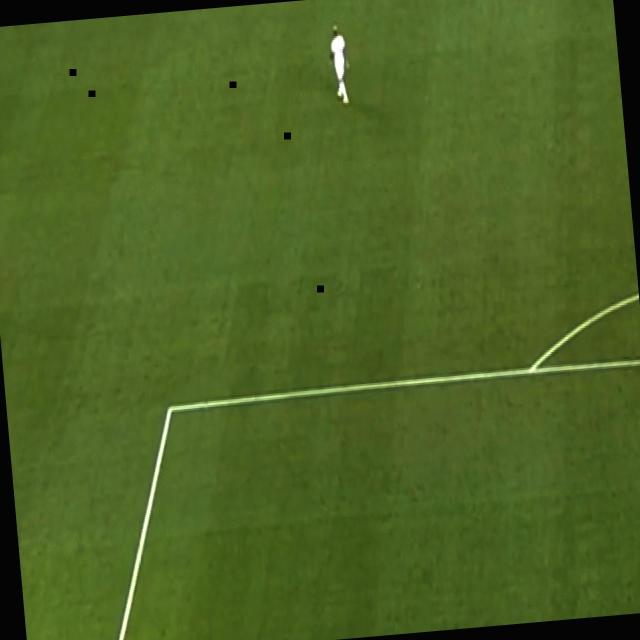player-white: (326, 21, 354, 109)
